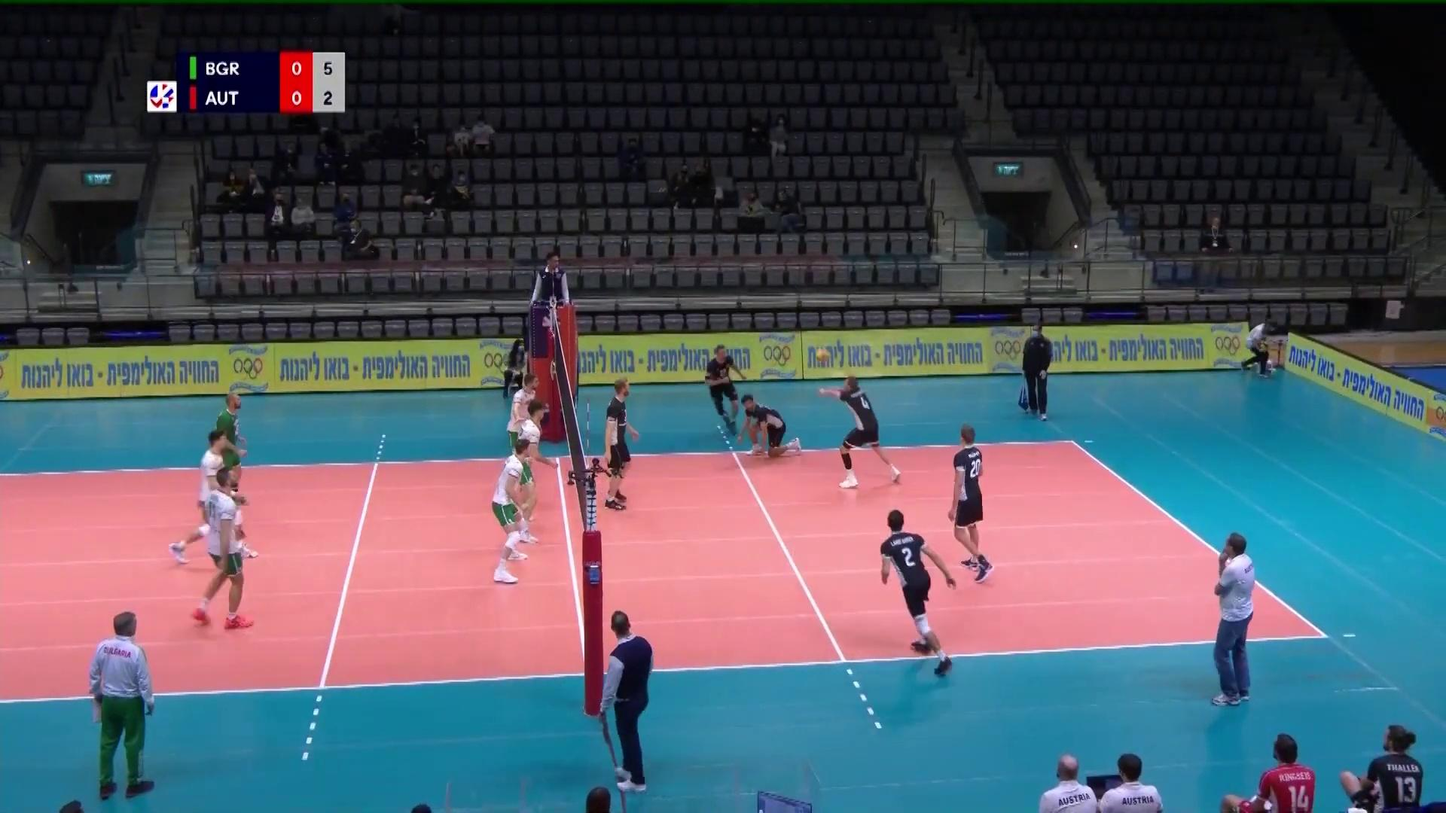ball: (816, 347, 831, 363)
